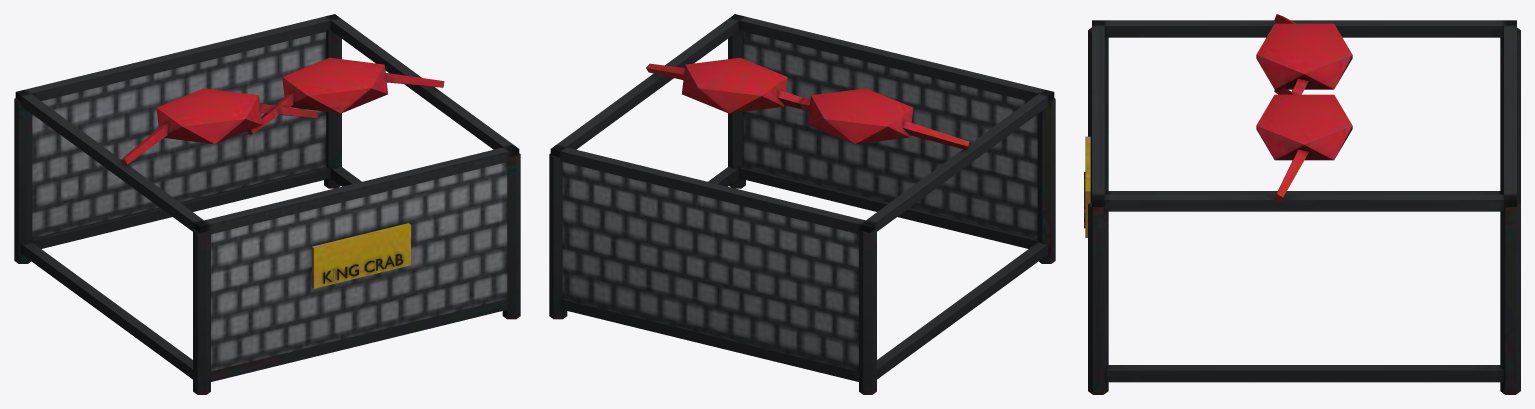
File: nasa_cangrejo.glb
The picture shows the model from 3 angles, left to right: view 1: azimuth 30°, elevation 25°; view 2: azimuth 150°, elevation 25°; view 3: azimuth 270°, elevation 25°; orthographic projection. The views are drawn at different scales.
Parts seen in each view (by area): view 1: nasa_cangrejo; view 2: nasa_cangrejo; view 3: nasa_cangrejo.
Part boxes in pixels (x1,y1,x2,y2): nasa_cangrejo: (14,14,520,394); nasa_cangrejo: (549,14,1055,394); nasa_cangrejo: (1084,14,1520,394).
Size of the model in its own units: 1.69 by 1.02 by 1.69.
1 material, 1 textured.
